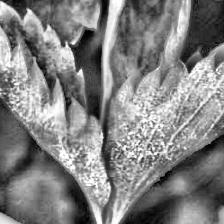Powdery Mildew Leaf: (0, 0, 113, 219), (103, 40, 224, 224), (99, 0, 196, 131)
